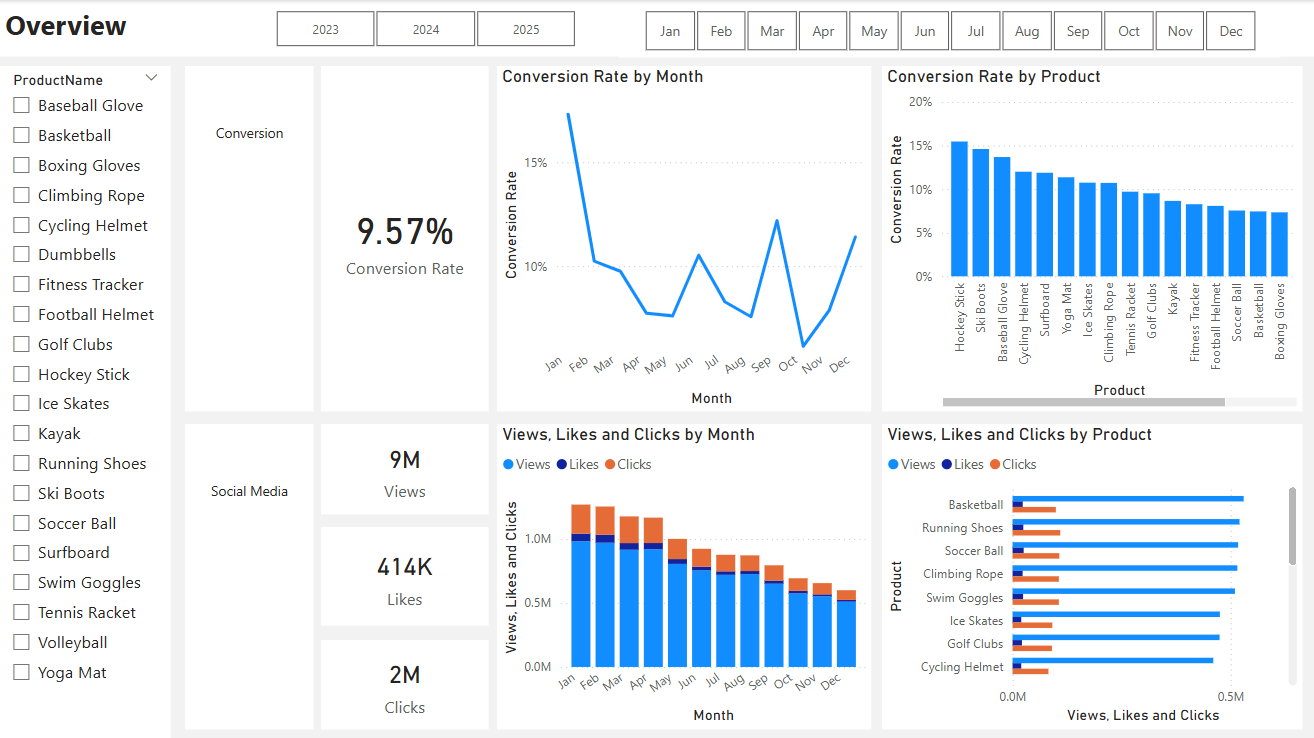

What the dashboard file says about the page in this screenshot:
{"tool":"powerbi","page":{"name":"Page 1","canvas":[1280,720],"ordinal":0},"visuals":[{"type":"textbox","box":[0,0,1280,55.4],"z":0},{"type":"slicer","fields":{"Values":["fact_products.ProductName"]},"box":[0,64.2,166.3,655.6],"z":1000},{"type":"textbox","box":[179.9,64.2,125.5,335.6],"z":2000},{"type":"textbox","box":[179.9,412.4,125.5,296.7],"z":3000},{"type":"card","fields":{"Values":["_calculations.Conversion Rate"]},"box":[312.2,64.2,163.4,335.6],"z":5000},{"type":"card","fields":{"Values":["_calculations.Likes"]},"box":[312.2,512.6,163.4,96.3],"z":6000},{"type":"card","fields":{"Values":["_calculations.Clicks"]},"box":[312.2,622.5,163.4,86.6],"z":7000},{"type":"card","fields":{"Values":["_calculations.Views"]},"box":[312.2,412.4,163.4,87.5],"z":8000},{"type":"slicer","fields":{"Values":["Calendar.Year"]},"box":[243.2,3.9,340.4,47.7],"z":9000},{"type":"slicer","fields":{"Values":["Calendar.MonthNameShort"]},"box":[602.1,3.9,642.9,51.6],"z":9001},{"type":"lineChart","fields":{"Y":["_calculations.Conversion Rate"],"Category":["Calendar.MonthNameShort"]},"box":[483.4,64.2,363.8,335.6],"z":9002},{"type":"clusteredColumnChart","fields":{"Category":["fact_products.ProductName"],"Y":["_calculations.Conversion Rate"]},"box":[857.9,64.2,408.5,335.6],"z":9003},{"type":"lineStackedColumnComboChart","fields":{"Category":["Calendar.MonthNameShort"],"Y":["Sum(fact_engagement_data.Views)","Sum(fact_engagement_data.Likes)","Sum(fact_engagement_data.Clicks)"]},"box":[483.4,412.4,363.8,296.7],"z":9004},{"type":"clusteredBarChart","fields":{"Category":["fact_products.ProductName"],"Y":["Sum(fact_engagement_data.Views)","_calculations.Likes","_calculations.Clicks"]},"box":[857.9,412.4,408.5,296.7],"z":9005}]}

Visuals, with their boxes in screenshot pixels (x1, y1, x2, y2), scaled from the page's 1280x720 canvas onto the 1314x738 screenshot:
textbox: (left=0, top=0, right=1313, bottom=57)
slicer - fact_products.ProductName: (left=0, top=66, right=171, bottom=737)
textbox: (left=185, top=66, right=314, bottom=410)
textbox: (left=185, top=423, right=314, bottom=727)
card - _calculations.Conversion Rate: (left=320, top=66, right=488, bottom=410)
card - _calculations.Likes: (left=320, top=525, right=488, bottom=624)
card - _calculations.Clicks: (left=320, top=638, right=488, bottom=727)
card - _calculations.Views: (left=320, top=423, right=488, bottom=512)
slicer - Calendar.Year: (left=250, top=4, right=599, bottom=53)
slicer - Calendar.MonthNameShort: (left=618, top=4, right=1278, bottom=57)
lineChart - _calculations.Conversion Rate x Calendar.MonthNameShort: (left=496, top=66, right=870, bottom=410)
clusteredColumnChart - fact_products.ProductName x _calculations.Conversion Rate: (left=881, top=66, right=1300, bottom=410)
lineStackedColumnComboChart - Calendar.MonthNameShort x Sum(fact_engagement_data.Views): (left=496, top=423, right=870, bottom=727)
clusteredBarChart - fact_products.ProductName x Sum(fact_engagement_data.Views): (left=881, top=423, right=1300, bottom=727)
